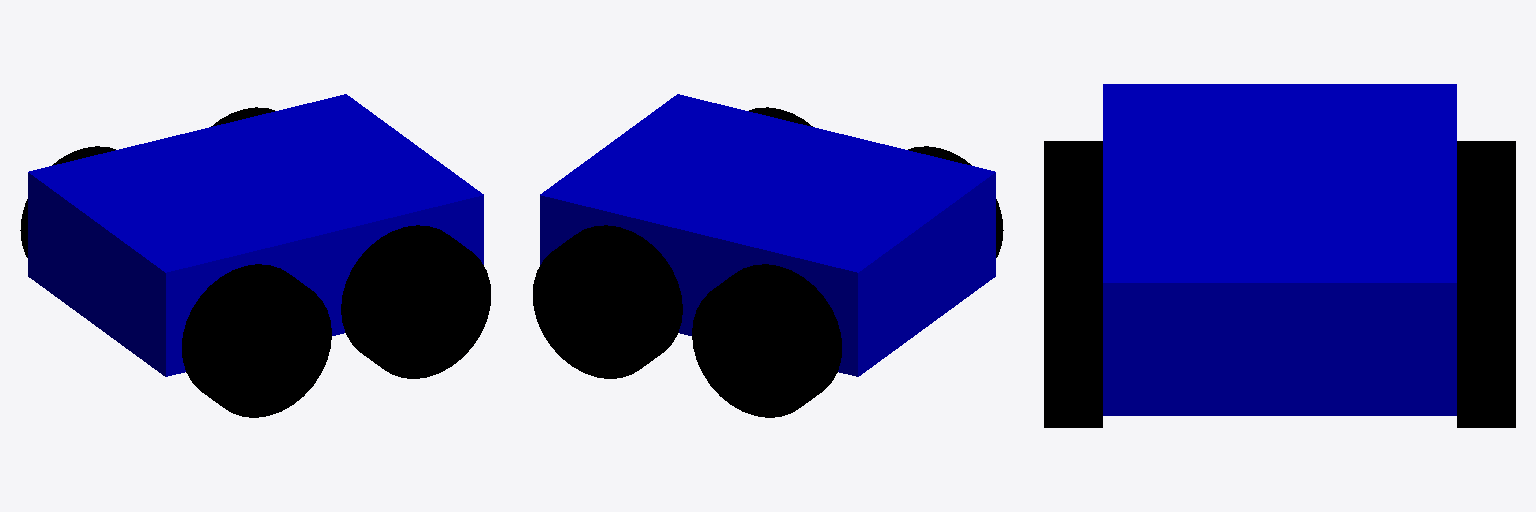
The robot description file, URDF, robot "gribot":
<?xml version="1.0" encoding="utf-8"?>
<!-- =================================================================================== -->
<!-- |    This document was autogenerated by xacro from gribot.xacro                   | -->
<!-- |    EDITING THIS FILE BY HAND IS NOT RECOMMENDED                                 | -->
<!-- =================================================================================== -->
<robot name="gribot" xmlns:xacro="http://www.ros.org/wiki/xacro">
  <!-- in kg -->
  <!-- Defining the colors used in this robot -->
  <material name="Black">
    <color rgba="0.0 0.0 0.0 1.0"/>
  </material>
  <material name="Red">
    <color rgba="0.8 0.0 0.0 1.0"/>
  </material>
  <material name="White">
    <color rgba="1.0 1.0 1.0 1.0"/>
  </material>
  <material name="Blue">
    <color rgba="0.0 0.0 0.8 1.0"/>
  </material>
  <!-- in kg -->
  <!-- Base footprint -->
  <!-- base_footprint is a fictious link(frame) that is on the ground right below base_link origin -->
  <link name="base_footprint">
    <inertial>
      <mass value="0.0001"/>
      <origin xyz="0 0 0"/>
      <inertia ixx="0.0001" ixy="0.0" ixz="0.0" iyy="0.0001" iyz="0.0" izz="0.0001"/>
    </inertial>
    <visual>
      <origin rpy="0 0 0" xzy="0 0 0"/>
      <geometry>
        <box size="0.001 0.001 0.001"/>
      </geometry>
    </visual>
  </link>
  <gazebo reference="base_footprint">
    <turnGravityOff>false</turnGravityOff>
  </gazebo>
  <joint name="base_footprint_joint" type="fixed">
    <origin rpy="0 0 0" xyz="0 0 0.1"/>
    <parent link="base_footprint"/>
    <child link="base_link"/>
  </joint>
  <!-- Base link -->
  <!-- Actual body/chassis of the robot -->
  <link name="base_link">
    <inertial>
      <mass value="20.0"/>
      <inertia ixx="0.704166385" ixy="0.0" ixz="0.0" iyy="1.170832865" iyz="0.0" izz="1.666666"/>
      <origin xyz="0 0 0"/>
    </inertial>
    <visual>
      <origin rpy="0 0 0" xyz="0 0 0"/>
      <geometry>
        <box size="0.8 0.6 0.25"/>
      </geometry>
      <material name="Blue"/>
    </visual>
    <collision>
      <origin rpy="0 0 0" xyz="0 0 0"/>
      <geometry>
        <box size="0.8 0.6 0.25"/>
      </geometry>
    </collision>
  </link>
  <gazebo reference="base_link">
    <material>Gazebo/White</material>
    <turnGravityOff>false</turnGravityOff>
  </gazebo>
  <!-- fb: front, back; lr: left right -->
  <link name="front_right_wheel">
    <visual>
      <origin rpy="1.57079632679 0 0" xyz="0 0 0"/>
      <!-- make sure the wheel is in the correc position -->
      <geometry>
        <cylinder length="0.1" radius="0.16"/>
      </geometry>
      <material name="Black"/>
    </visual>
    <collision>
      <origin rpy="1.57079632679 0 0" xyz="0 0 0"/>
      <geometry>
        <cylinder length="0.1" radius="0.16"/>
      </geometry>
    </collision>
    <inertial>
      <mass value="2.7"/>
      <origin xyz="0 0 0"/>
      <inertia ixx="0.01953" ixy="0" ixz="0" iyy="0.01953" iyz="0" izz="0.216"/>
    </inertial>
  </link>
  <gazebo reference="front_right_wheel">
    <mu1 value="1.0"/>
    <mu2 value="1.0"/>
    <kp value="10000000.0"/>
    <kd value="1.0"/>
    <fdir1 value="1 0 0"/>
    <material>Gazebo/Black</material>
    <turnGravityOff>false</turnGravityOff>
  </gazebo>
  <joint name="front_right_wheel_joint" type="continuous">
    <parent link="base_link"/>
    <child link="front_right_wheel"/>
    <origin rpy="0 0 0" xyz="0.2 0.35 -0.065"/>
    <limit effort="1000" velocity="1000"/>
    <joint_properties damping="0.0" friction="0.0"/>
  </joint>
  <!-- Transmission is important to link the joint and the controller -->
  <transmission name="front_right_wheel_joint_trans">
    <type>transmission_interface/SimpleTransmission</type>
    <joint name="front_right_wheel_joint"/>
    <actuator name="front_right_wheel_joint_motor">
      <hardwareInterface>EffortJointInterface</hardwareInterface>
      <mechanicalReduction>1</mechanicalReduction>
      <!-- It is not true: we uses motor with gearbos and ration of 75 -->
    </actuator>
  </transmission>
  <!-- fb: front, back; lr: left right -->
  <link name="front_left_wheel">
    <visual>
      <origin rpy="1.57079632679 0 0" xyz="0 0 0"/>
      <!-- make sure the wheel is in the correc position -->
      <geometry>
        <cylinder length="0.1" radius="0.16"/>
      </geometry>
      <material name="Black"/>
    </visual>
    <collision>
      <origin rpy="1.57079632679 0 0" xyz="0 0 0"/>
      <geometry>
        <cylinder length="0.1" radius="0.16"/>
      </geometry>
    </collision>
    <inertial>
      <mass value="2.7"/>
      <origin xyz="0 0 0"/>
      <inertia ixx="0.01953" ixy="0" ixz="0" iyy="0.01953" iyz="0" izz="0.216"/>
    </inertial>
  </link>
  <gazebo reference="front_left_wheel">
    <mu1 value="1.0"/>
    <mu2 value="1.0"/>
    <kp value="10000000.0"/>
    <kd value="1.0"/>
    <fdir1 value="1 0 0"/>
    <material>Gazebo/Black</material>
    <turnGravityOff>false</turnGravityOff>
  </gazebo>
  <joint name="front_left_wheel_joint" type="continuous">
    <parent link="base_link"/>
    <child link="front_left_wheel"/>
    <origin rpy="0 0 0" xyz="0.2 -0.35 -0.065"/>
    <limit effort="1000" velocity="1000"/>
    <joint_properties damping="0.0" friction="0.0"/>
  </joint>
  <!-- Transmission is important to link the joint and the controller -->
  <transmission name="front_left_wheel_joint_trans">
    <type>transmission_interface/SimpleTransmission</type>
    <joint name="front_left_wheel_joint"/>
    <actuator name="front_left_wheel_joint_motor">
      <hardwareInterface>EffortJointInterface</hardwareInterface>
      <mechanicalReduction>1</mechanicalReduction>
      <!-- It is not true: we uses motor with gearbos and ration of 75 -->
    </actuator>
  </transmission>
  <!-- fb: front, back; lr: left right -->
  <link name="back_right_wheel">
    <visual>
      <origin rpy="1.57079632679 0 0" xyz="0 0 0"/>
      <!-- make sure the wheel is in the correc position -->
      <geometry>
        <cylinder length="0.1" radius="0.16"/>
      </geometry>
      <material name="Black"/>
    </visual>
    <collision>
      <origin rpy="1.57079632679 0 0" xyz="0 0 0"/>
      <geometry>
        <cylinder length="0.1" radius="0.16"/>
      </geometry>
    </collision>
    <inertial>
      <mass value="2.7"/>
      <origin xyz="0 0 0"/>
      <inertia ixx="0.01953" ixy="0" ixz="0" iyy="0.01953" iyz="0" izz="0.216"/>
    </inertial>
  </link>
  <gazebo reference="back_right_wheel">
    <mu1 value="1.0"/>
    <mu2 value="1.0"/>
    <kp value="10000000.0"/>
    <kd value="1.0"/>
    <fdir1 value="1 0 0"/>
    <material>Gazebo/Black</material>
    <turnGravityOff>false</turnGravityOff>
  </gazebo>
  <joint name="back_right_wheel_joint" type="continuous">
    <parent link="base_link"/>
    <child link="back_right_wheel"/>
    <origin rpy="0 0 0" xyz="-0.2 0.35 -0.065"/>
    <limit effort="1000" velocity="1000"/>
    <joint_properties damping="0.0" friction="0.0"/>
  </joint>
  <!-- Transmission is important to link the joint and the controller -->
  <transmission name="back_right_wheel_joint_trans">
    <type>transmission_interface/SimpleTransmission</type>
    <joint name="back_right_wheel_joint"/>
    <actuator name="back_right_wheel_joint_motor">
      <hardwareInterface>EffortJointInterface</hardwareInterface>
      <mechanicalReduction>1</mechanicalReduction>
      <!-- It is not true: we uses motor with gearbos and ration of 75 -->
    </actuator>
  </transmission>
  <!-- fb: front, back; lr: left right -->
  <link name="back_left_wheel">
    <visual>
      <origin rpy="1.57079632679 0 0" xyz="0 0 0"/>
      <!-- make sure the wheel is in the correc position -->
      <geometry>
        <cylinder length="0.1" radius="0.16"/>
      </geometry>
      <material name="Black"/>
    </visual>
    <collision>
      <origin rpy="1.57079632679 0 0" xyz="0 0 0"/>
      <geometry>
        <cylinder length="0.1" radius="0.16"/>
      </geometry>
    </collision>
    <inertial>
      <mass value="2.7"/>
      <origin xyz="0 0 0"/>
      <inertia ixx="0.01953" ixy="0" ixz="0" iyy="0.01953" iyz="0" izz="0.216"/>
    </inertial>
  </link>
  <gazebo reference="back_left_wheel">
    <mu1 value="1.0"/>
    <mu2 value="1.0"/>
    <kp value="10000000.0"/>
    <kd value="1.0"/>
    <fdir1 value="1 0 0"/>
    <material>Gazebo/Black</material>
    <turnGravityOff>false</turnGravityOff>
  </gazebo>
  <joint name="back_left_wheel_joint" type="continuous">
    <parent link="base_link"/>
    <child link="back_left_wheel"/>
    <origin rpy="0 0 0" xyz="-0.2 -0.35 -0.065"/>
    <limit effort="1000" velocity="1000"/>
    <joint_properties damping="0.0" friction="0.0"/>
  </joint>
  <!-- Transmission is important to link the joint and the controller -->
  <transmission name="back_left_wheel_joint_trans">
    <type>transmission_interface/SimpleTransmission</type>
    <joint name="back_left_wheel_joint"/>
    <actuator name="back_left_wheel_joint_motor">
      <hardwareInterface>EffortJointInterface</hardwareInterface>
      <mechanicalReduction>1</mechanicalReduction>
      <!-- It is not true: we uses motor with gearbos and ration of 75 -->
    </actuator>
  </transmission>
</robot>

--- Render facts (derived) ---
The picture shows the robot from 3 angles, left to right: view 1: azimuth 30°, elevation 25°; view 2: azimuth 150°, elevation 25°; view 3: azimuth 270°, elevation 25°; orthographic projection.
Robot: gribot — 6 links, 5 joints (4 continuous, 1 fixed); root link base_footprint; default pose: every joint at zero.
Visible links, largest first — view 1: base_link, front_left_wheel, back_left_wheel, back_right_wheel; view 2: base_link, front_right_wheel, back_right_wheel, back_left_wheel; view 3: base_link, front_right_wheel, front_left_wheel, back_right_wheel, back_left_wheel.
Boxes of the visible links, x1,y1,x2,y2 form: base_link: (28, 94, 483, 376); front_left_wheel: (341, 225, 490, 378); back_left_wheel: (182, 264, 331, 417); back_right_wheel: (20, 146, 115, 257); base_link: (540, 94, 995, 376); front_right_wheel: (533, 225, 682, 378); back_right_wheel: (692, 264, 841, 417); back_left_wheel: (908, 146, 1003, 257); base_link: (1103, 84, 1456, 415); front_right_wheel: (1457, 240, 1515, 427); front_left_wheel: (1044, 240, 1102, 427); back_right_wheel: (1457, 141, 1515, 239); back_left_wheel: (1044, 141, 1102, 239).
Size in the robot's own frame: 0.8 by 0.8 by 0.35 metres.
Geometry: primitives only (box / cylinder / sphere), no mesh files.